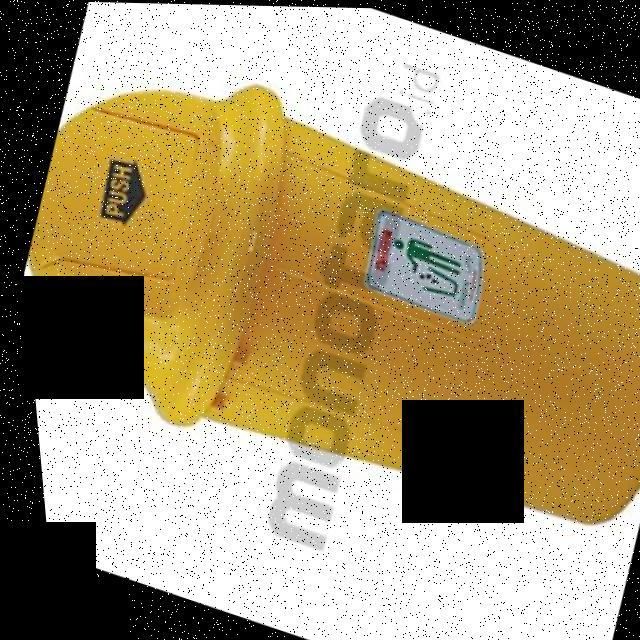bin: (0, 6, 640, 606)
